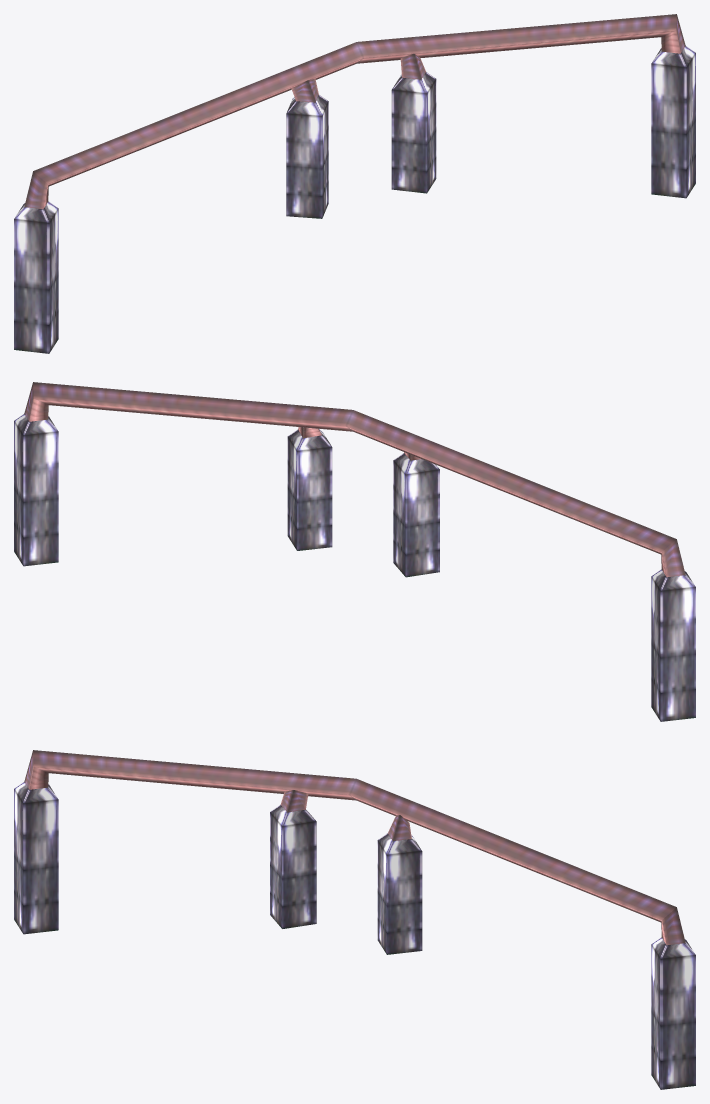
3 views of the same model, one above another, from view 1: azimuth 30°, elevation 25°; view 2: azimuth 150°, elevation 25°; view 3: azimuth 330°, elevation 25° (orthographic).
Parts seen in each view (by area): view 1: Cylinder07; view 2: Cylinder07; view 3: Cylinder07.
Part boxes in pixels (x1,y1,x2,y2): Cylinder07: [14, 14, 695, 353]; Cylinder07: [14, 382, 695, 721]; Cylinder07: [14, 750, 695, 1089].
Bounding box in the file's own units: 5764 × 1812 × 482.
1 material, 1 textured.
